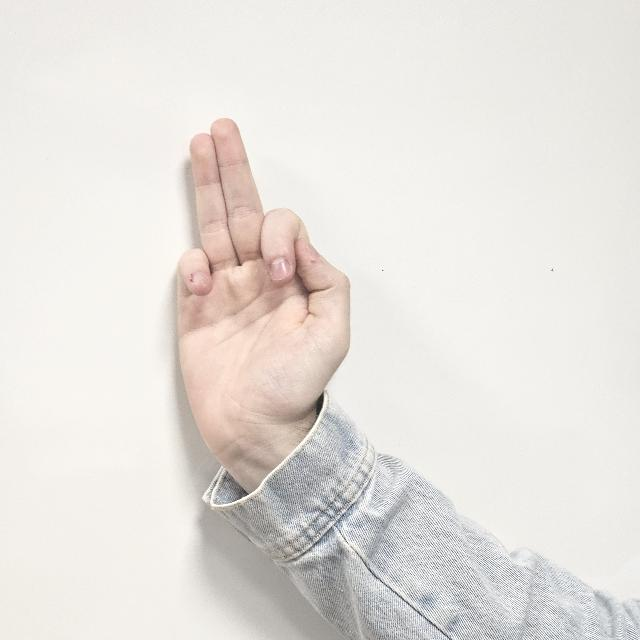R: (170, 112, 352, 474)
